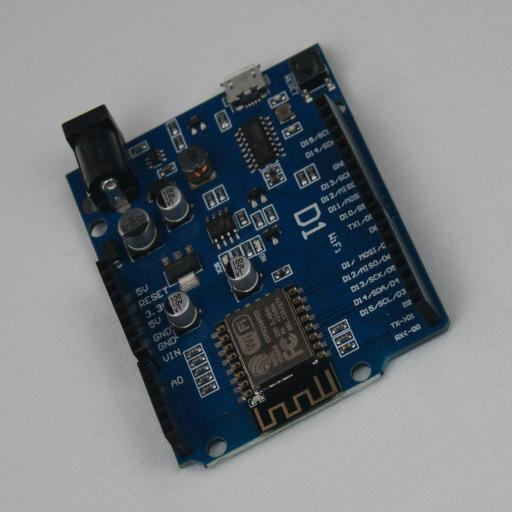Arduino Uno WiFi Shield: (62, 44, 451, 468)
